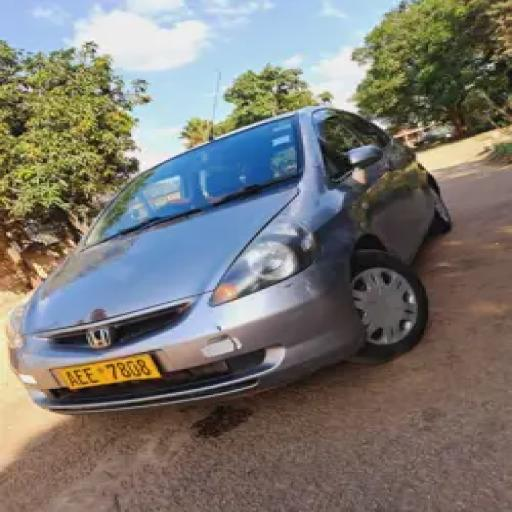number-plates: (50, 356, 167, 389)
